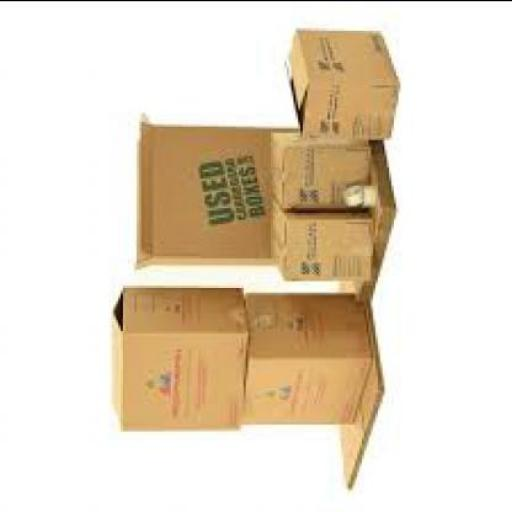cardboard: (134, 118, 298, 271), (107, 291, 247, 433), (237, 294, 369, 428), (285, 32, 398, 143), (339, 296, 382, 494), (266, 134, 368, 214), (269, 205, 371, 282), (342, 138, 390, 298)
